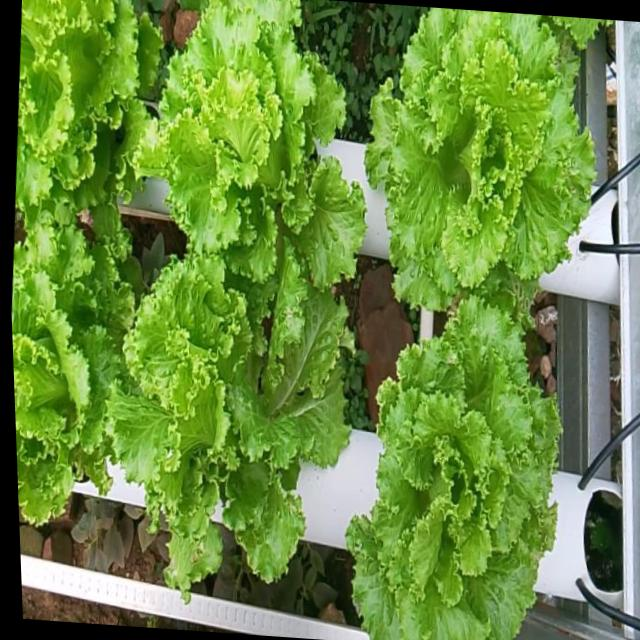Mature: (103, 263, 345, 601), (358, 8, 602, 318), (340, 302, 555, 640), (139, 0, 359, 316), (11, 237, 126, 538), (14, 0, 155, 238)
